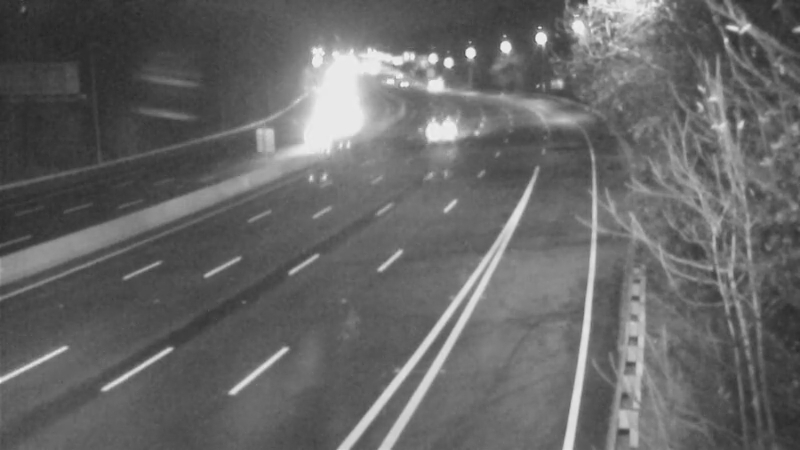vehicle: (418, 101, 468, 151)
